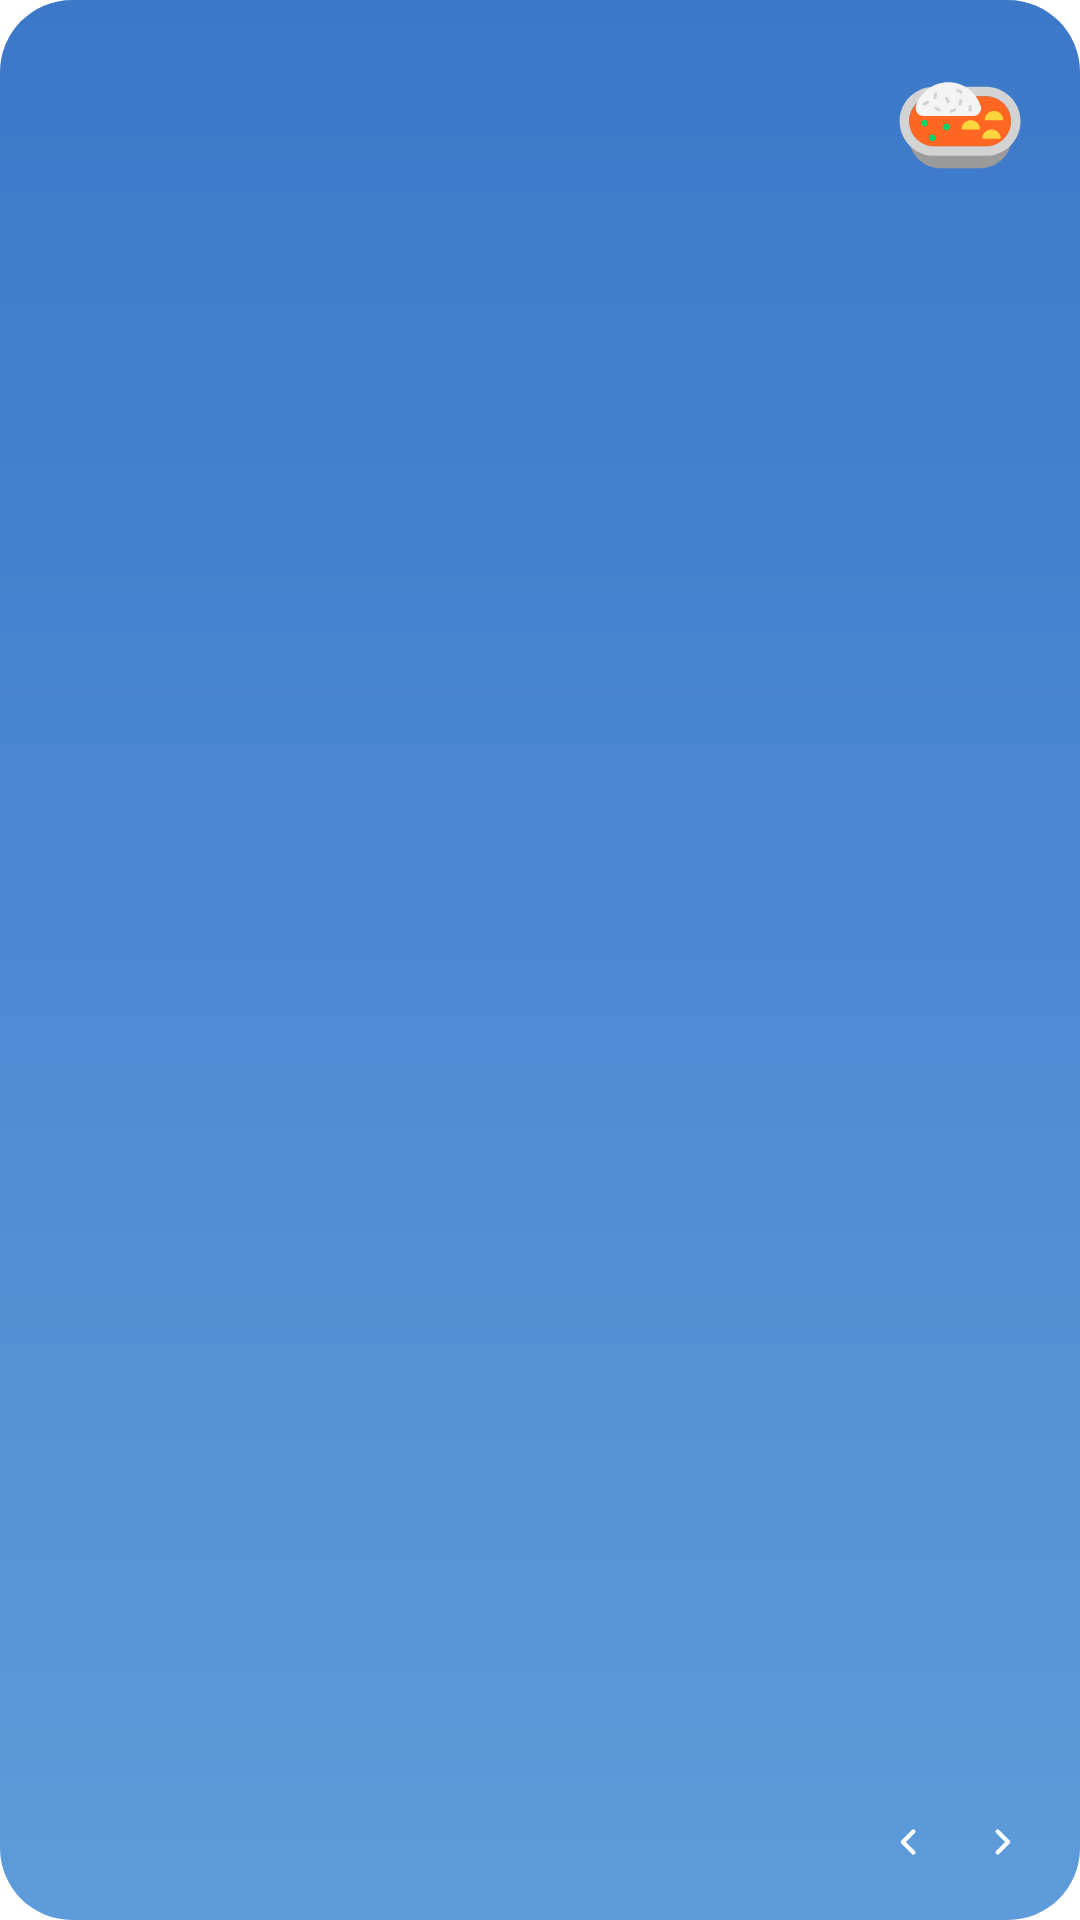

Screen size 1080px×1920px. Icon name, then its center in pixels as point (x, y):
art lunch: point (960, 125)
Next meal: point (1002, 1842)
Previous meal: point (908, 1842)
